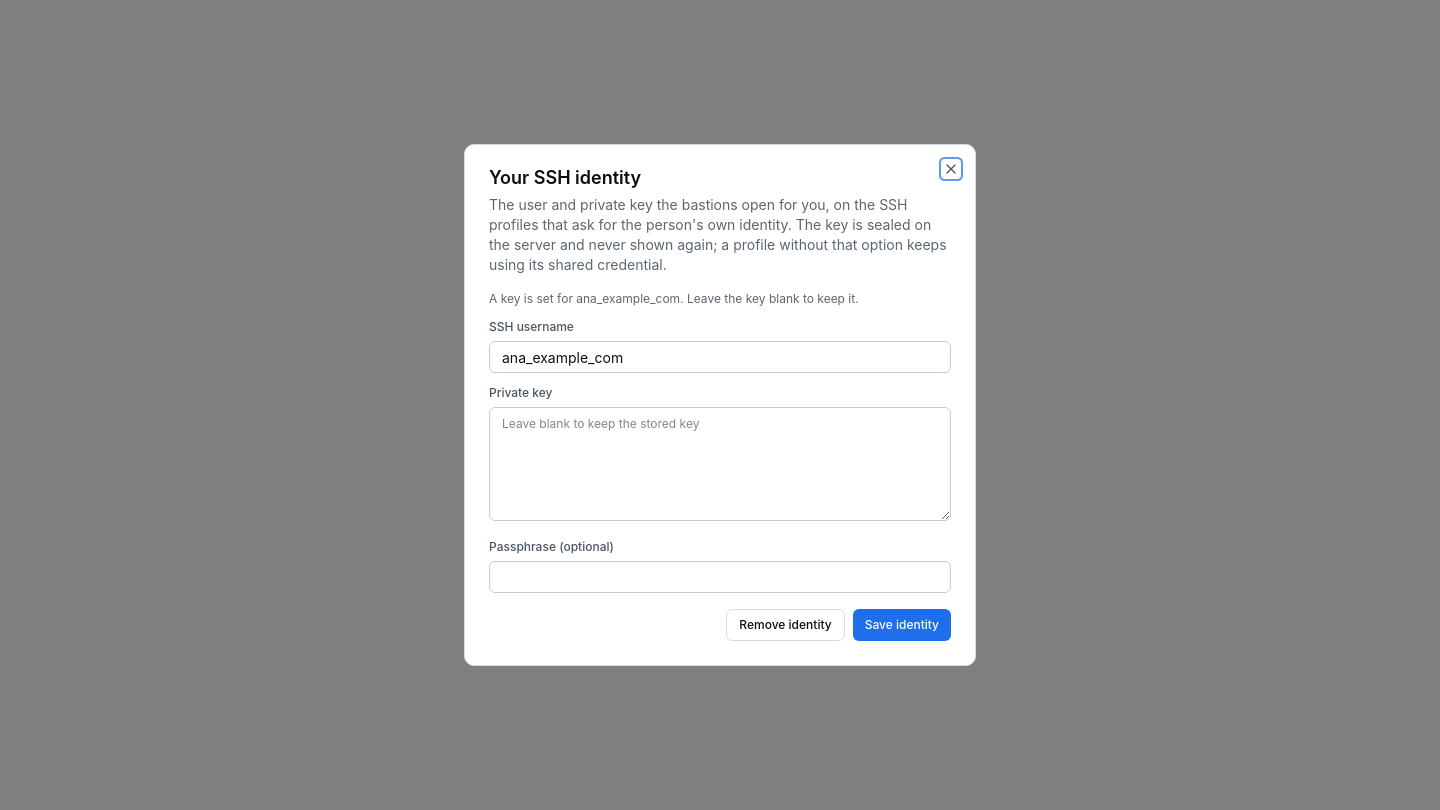
SshIdentityDialog › with one stored, a blank key keeps it, a passphrase travels only when typed, and removal follows the server
Expected: the text with test id "ssh-identity-state" shows "Leave the key blank to keep it", left=489, top=291, right=859, bottom=306
Expected: the field labelled "SSH username" holds "ana_example_com", left=489, top=341, right=951, bottom=373
In the password field labelled "Passphrase (optional)": (720,577) left=489, top=561, right=951, bottom=593, type "pp"
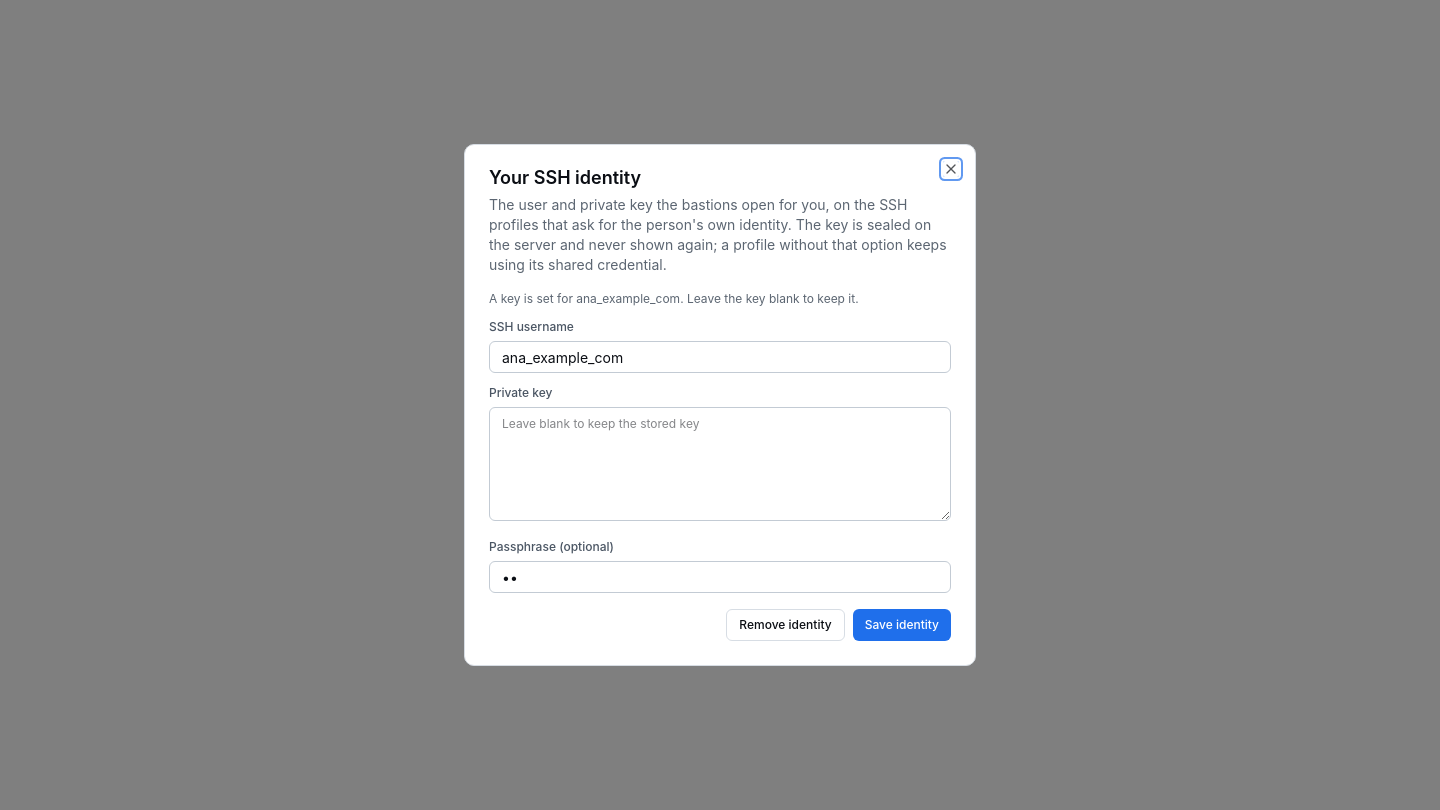
Click the button "Save identity": (902,625) left=853, top=609, right=951, bottom=641
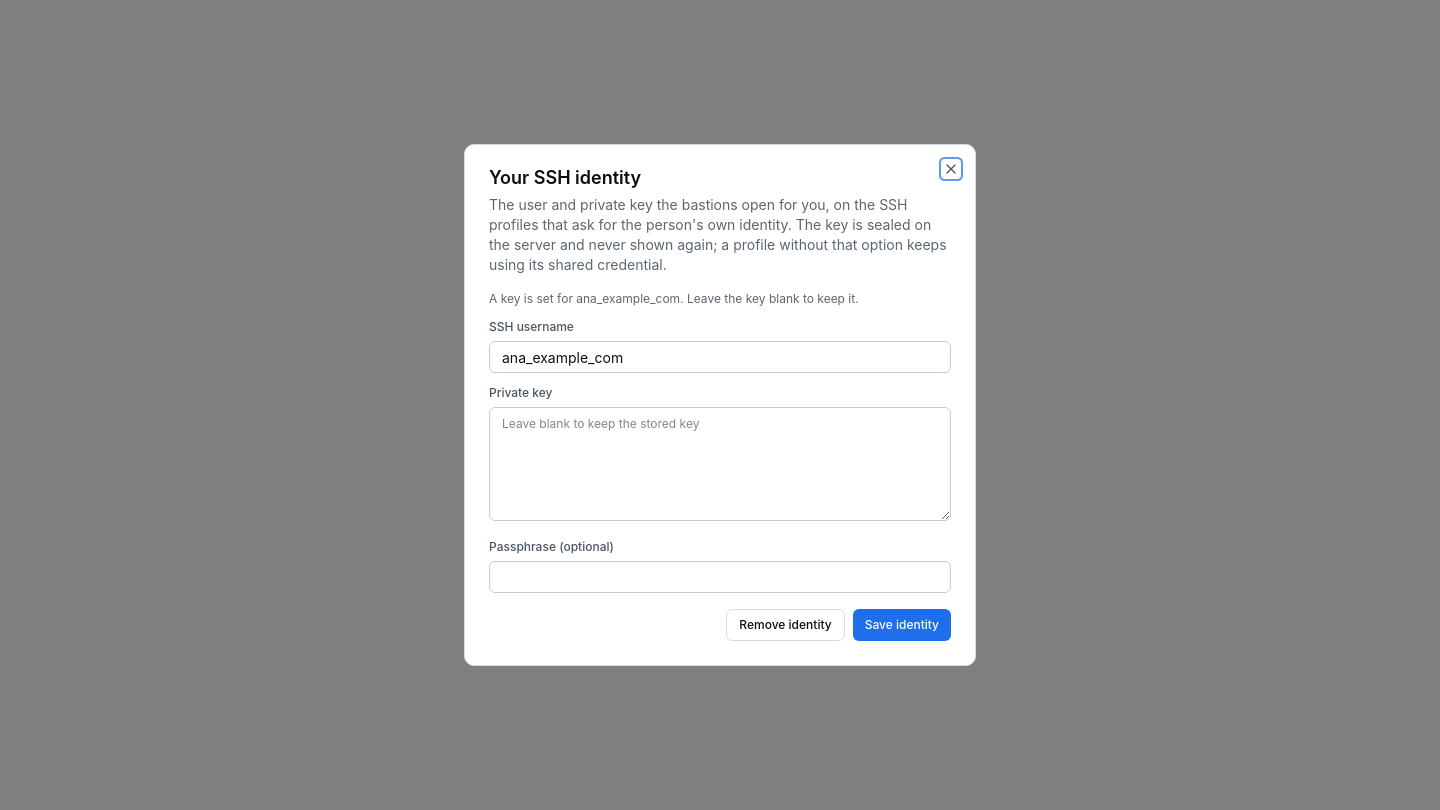
Click the button "Remove identity": (785,625) left=726, top=609, right=845, bottom=641
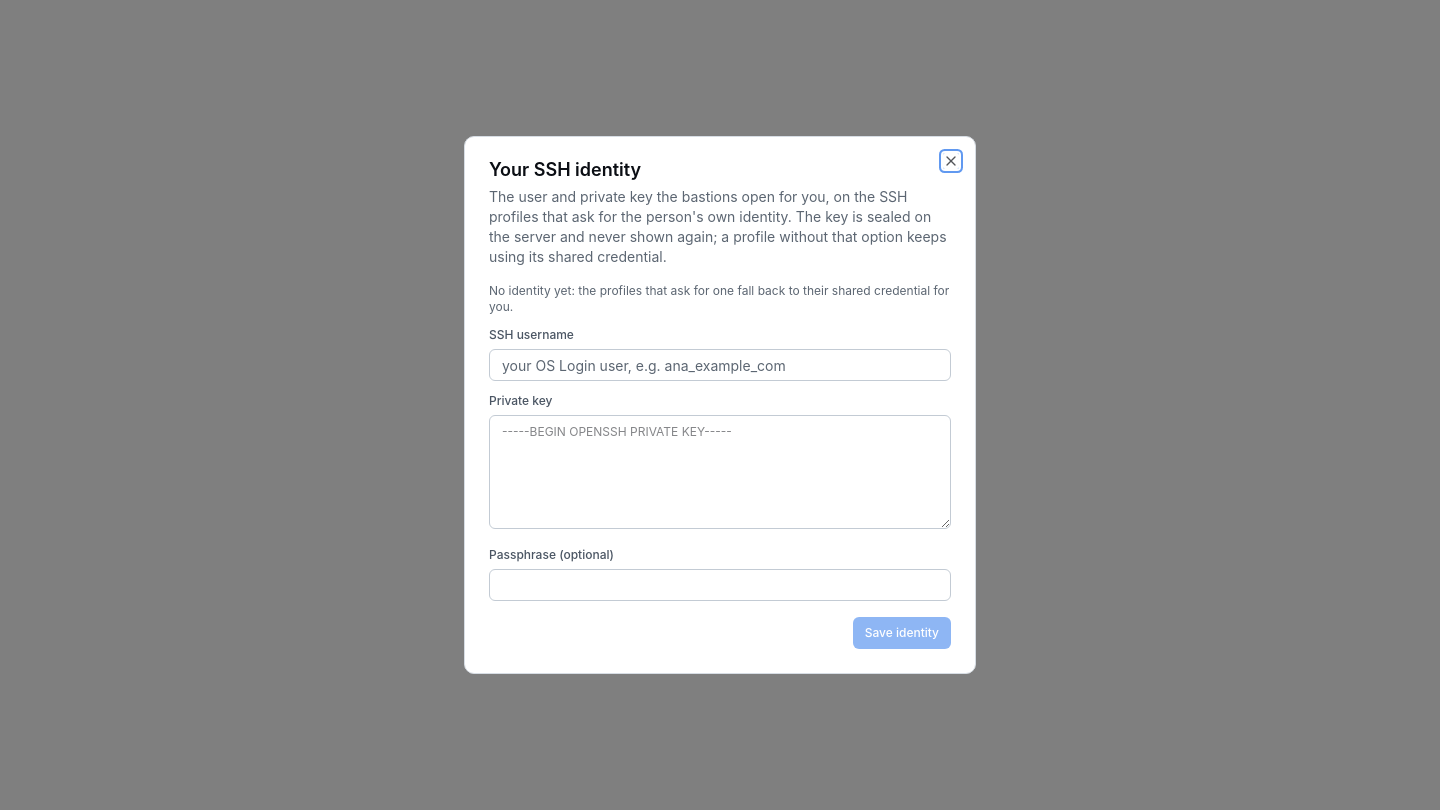
Now the text with test id "ssh-identity-state" shows "No identity yet", box left=489, top=283, right=949, bottom=314
